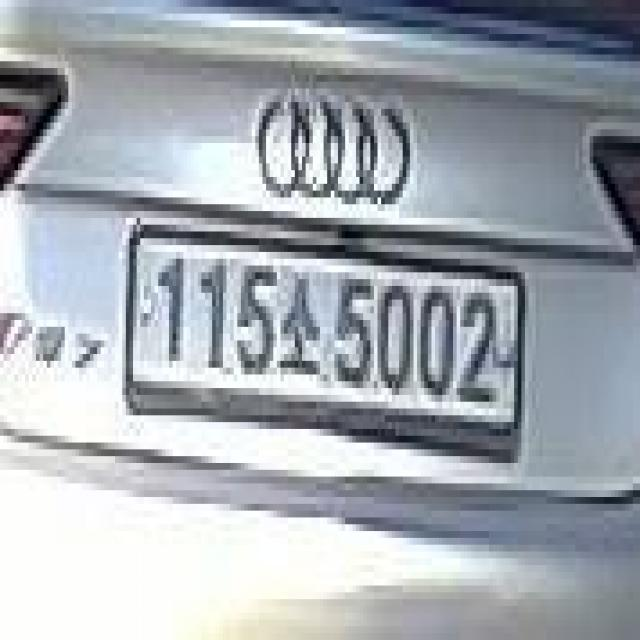illegal_plate: (115, 210, 533, 473)
